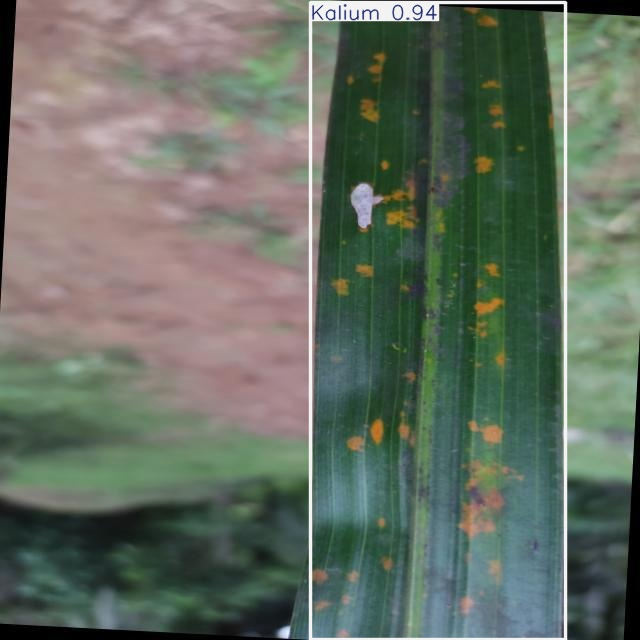Kalium: (311, 3, 565, 640)
